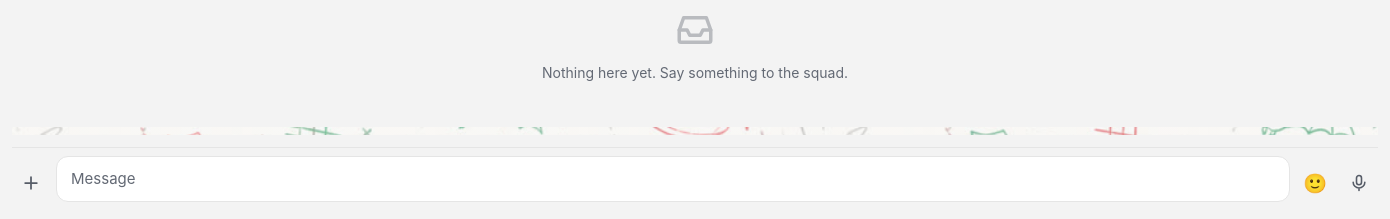
channel composer bar › typing @ in a channel with mentionables opens the existing picker
In the text box labelled "Message": (673, 179) x1=56 y1=156 x2=1290 y2=202, type "@"
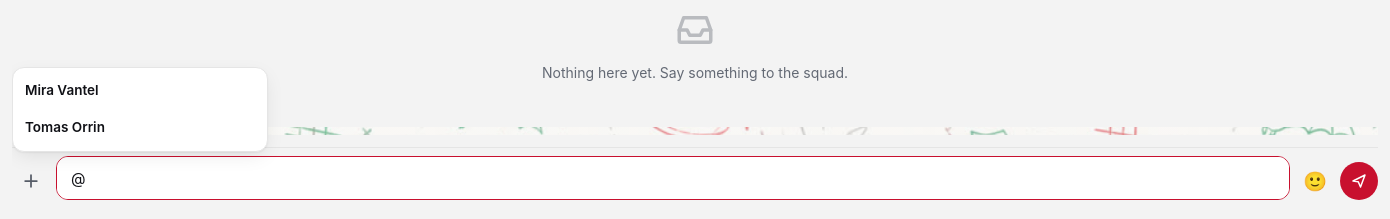
Expected: the option "Mira Vantel" is shown
Click the option "Mira Vantel": (140, 91) x1=13 y1=72 x2=267 y2=109
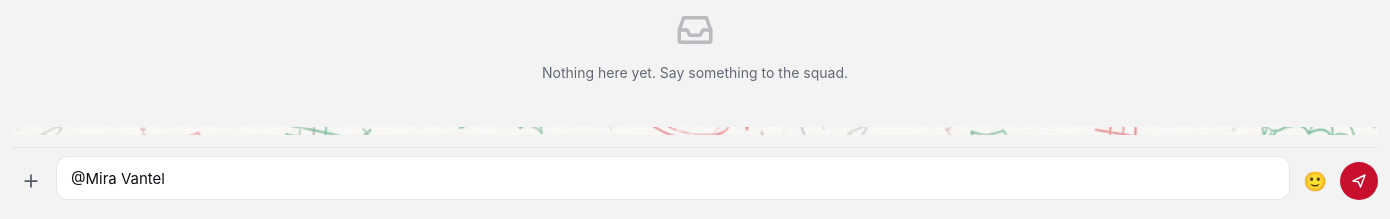
Expected: the text box named "Message" holds "@Mira Vantel ", x1=56 y1=156 x2=1290 y2=200
